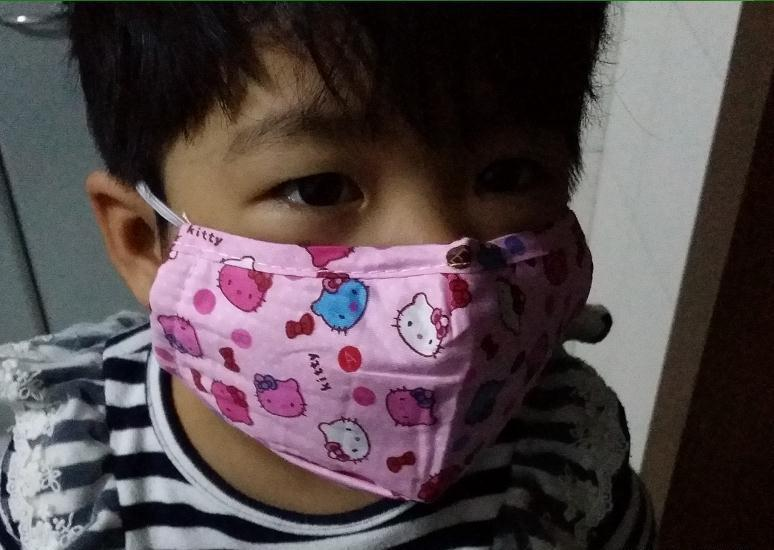OK: (185, 99, 569, 483)
